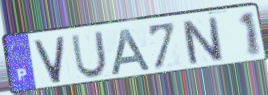1: (238, 10, 262, 60)
7: (147, 20, 177, 72)
A: (110, 27, 154, 77)
N: (179, 15, 226, 67)
U: (70, 29, 109, 80)
V: (31, 34, 67, 86)
